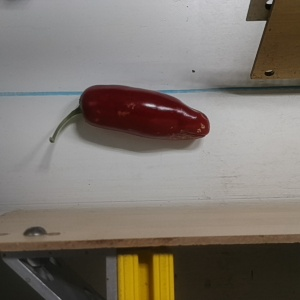Cut Point: (72, 85, 98, 128)
